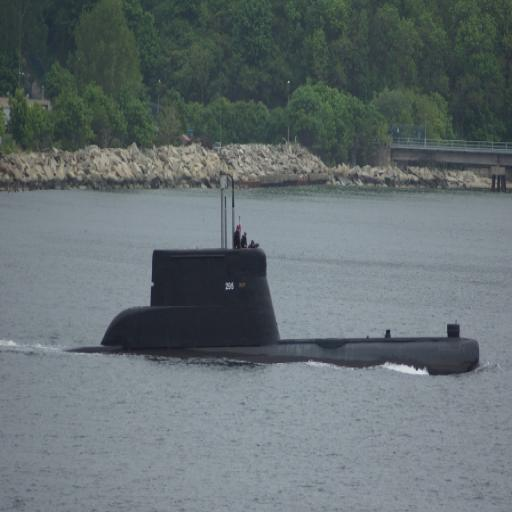submarine: (63, 250, 488, 355)
